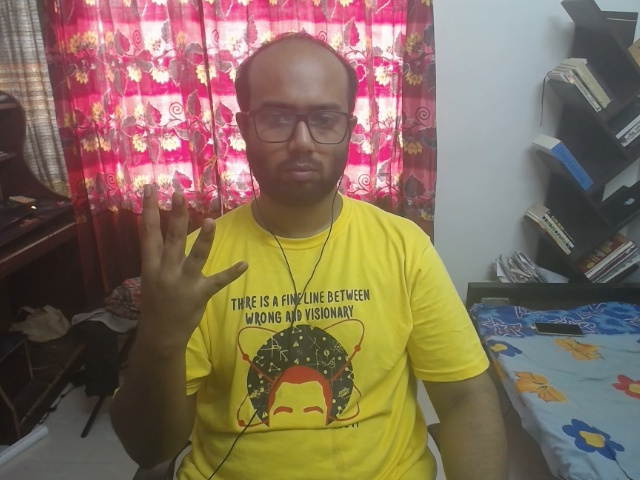four: (119, 168, 272, 351)
